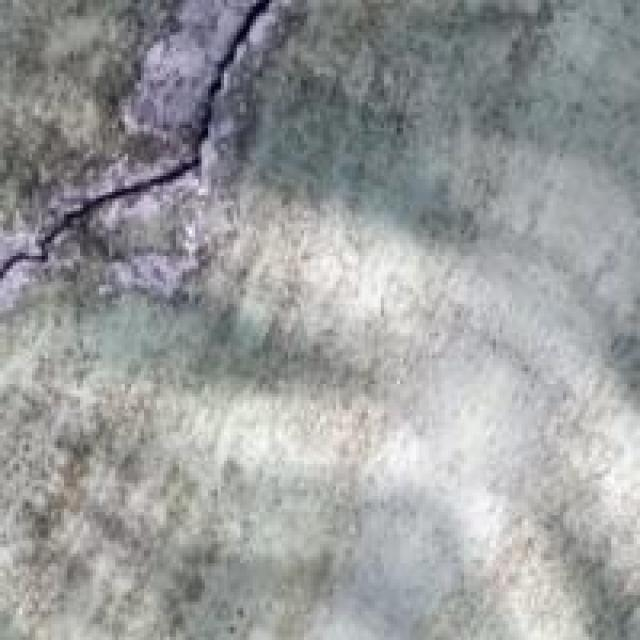Crack: (3, 4, 317, 295)
